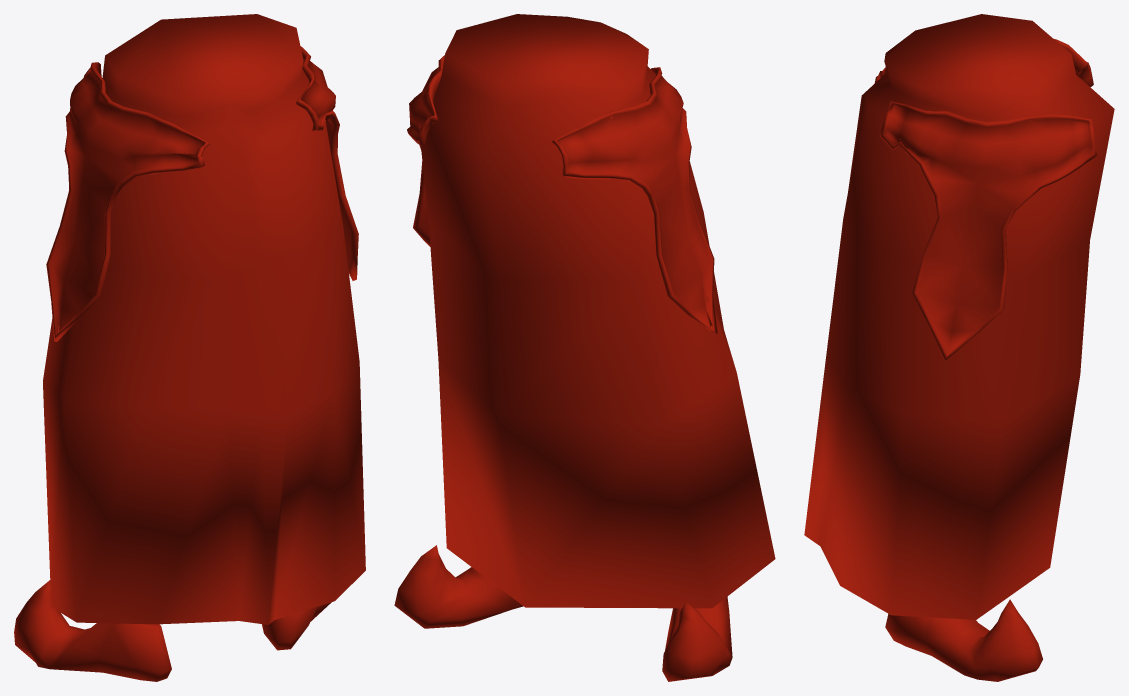
The model's file is bot_000054.obj.
3 views of the same model, side by side, from view 1: azimuth 30°, elevation 25°; view 2: azimuth 150°, elevation 25°; view 3: azimuth 270°, elevation 25° (orthographic). The views are drawn at different scales.
Visible parts, largest first — view 1: LowPoly_Warlock.004_Plane.004; view 2: LowPoly_Warlock.004_Plane.004; view 3: LowPoly_Warlock.004_Plane.004.
Boxes of the visible parts, x1,y1,x2,y2 form: LowPoly_Warlock.004_Plane.004: (14,14,365,681); LowPoly_Warlock.004_Plane.004: (394,14,775,681); LowPoly_Warlock.004_Plane.004: (804,14,1114,681).
Size of the model in its own units: 0.6137 by 1.1 by 0.5403.
